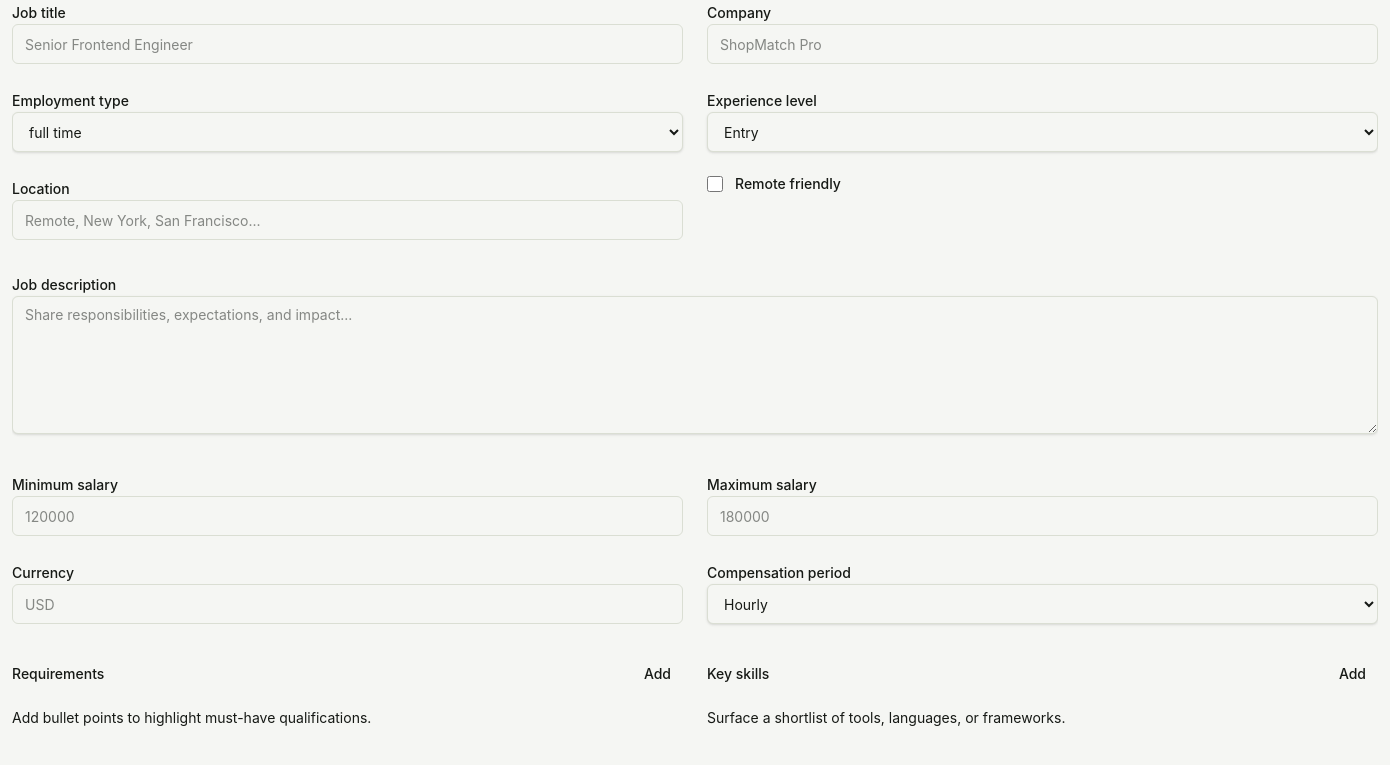
it: JobForm - Interaction Tests › Requirements Management › adds new requirement field when Add button clicked
The width and height of the screenshot is (1390, 765).
Expected: the field with placeholder "5+ years with React" is not shown
Click the button "Add" in the row of "Requirements". click: click(657, 674)
box: [632, 656, 683, 692]
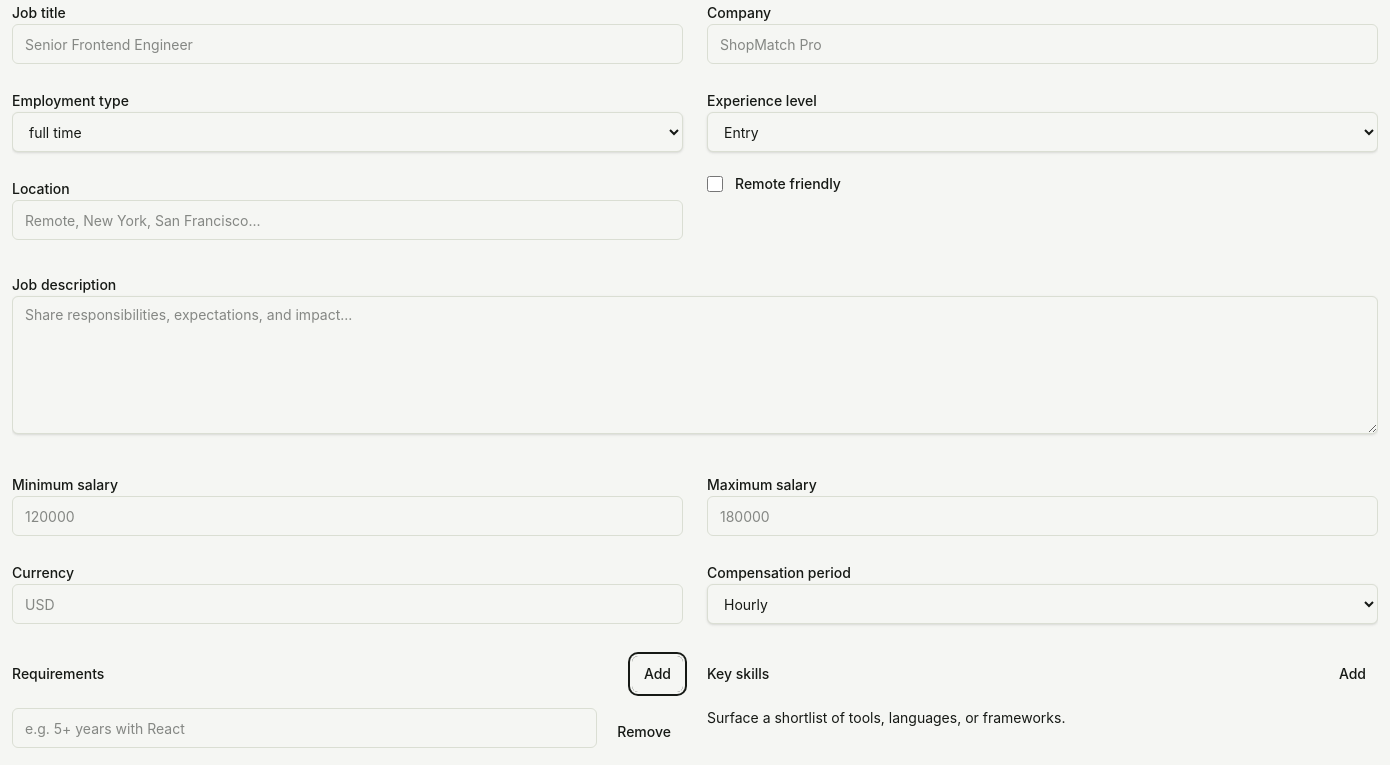
Result: the number of fields with placeholder "e.g. 5+ years with React" is 1 at [12, 708, 597, 748]
